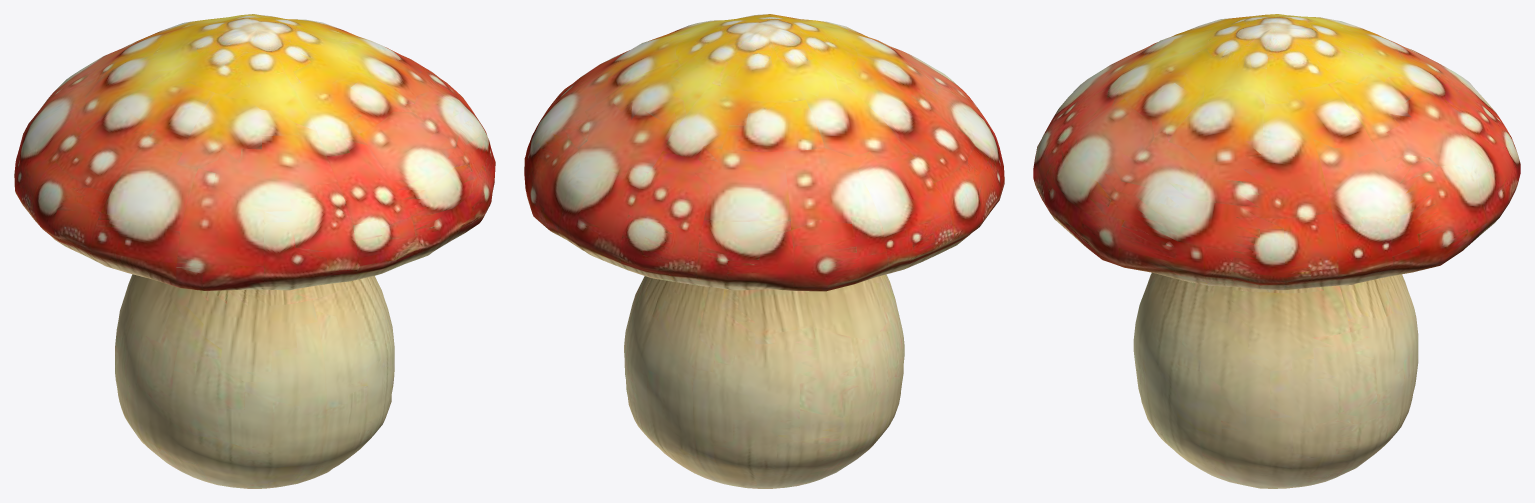
The picture shows the model from 3 angles, left to right: view 1: azimuth 30°, elevation 25°; view 2: azimuth 150°, elevation 25°; view 3: azimuth 270°, elevation 25°; orthographic projection.
Size of the model in its own units: 1.9 by 1.91 by 1.9.
1 material, 1 textured.
